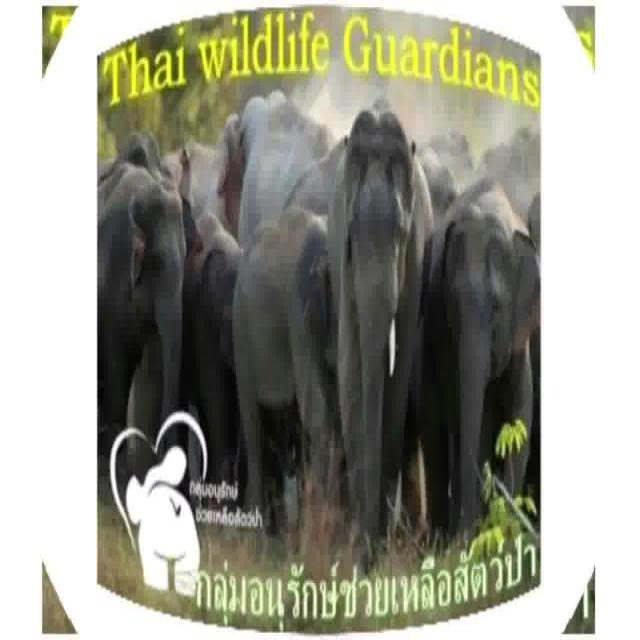Elephant: (331, 111, 422, 450), (433, 178, 537, 457), (211, 220, 333, 400), (96, 166, 185, 403), (229, 92, 319, 220)
